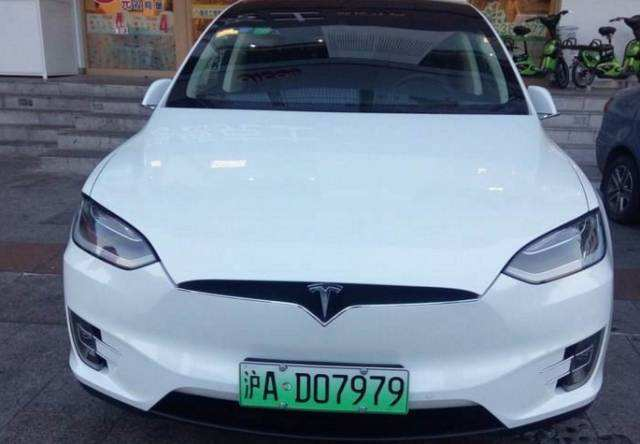plate: (228, 350, 423, 430)
